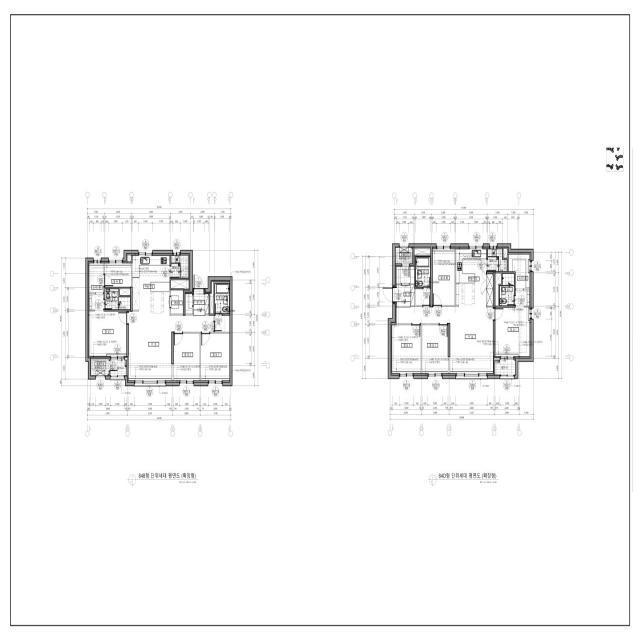space_balconi: (488, 249, 507, 271), (171, 256, 189, 278), (495, 360, 515, 375), (110, 359, 127, 375)
space_bedroom: (495, 290, 530, 356), (89, 311, 126, 356), (392, 325, 421, 373), (201, 334, 230, 380), (422, 325, 448, 373), (174, 334, 200, 380)
space_dressroom: (89, 263, 104, 311), (509, 255, 530, 289)
space_front: (393, 285, 414, 307), (193, 294, 209, 315)
space_kitchen: (132, 256, 170, 315), (456, 249, 493, 306)
space_living_room: (396, 307, 493, 373), (129, 311, 214, 380)
space_other: (433, 249, 455, 305), (105, 263, 131, 287), (396, 267, 414, 284), (171, 290, 183, 314), (215, 316, 230, 332), (416, 289, 430, 305), (495, 273, 501, 306), (171, 280, 189, 289), (185, 294, 193, 314), (210, 282, 214, 314), (415, 249, 430, 255), (120, 289, 130, 295), (503, 249, 507, 258), (127, 255, 131, 261)
space_outdoor_room: (91, 359, 109, 375), (396, 248, 413, 263)
space_toilet: (105, 289, 130, 309), (500, 274, 514, 306), (416, 257, 430, 287), (215, 284, 229, 314)
